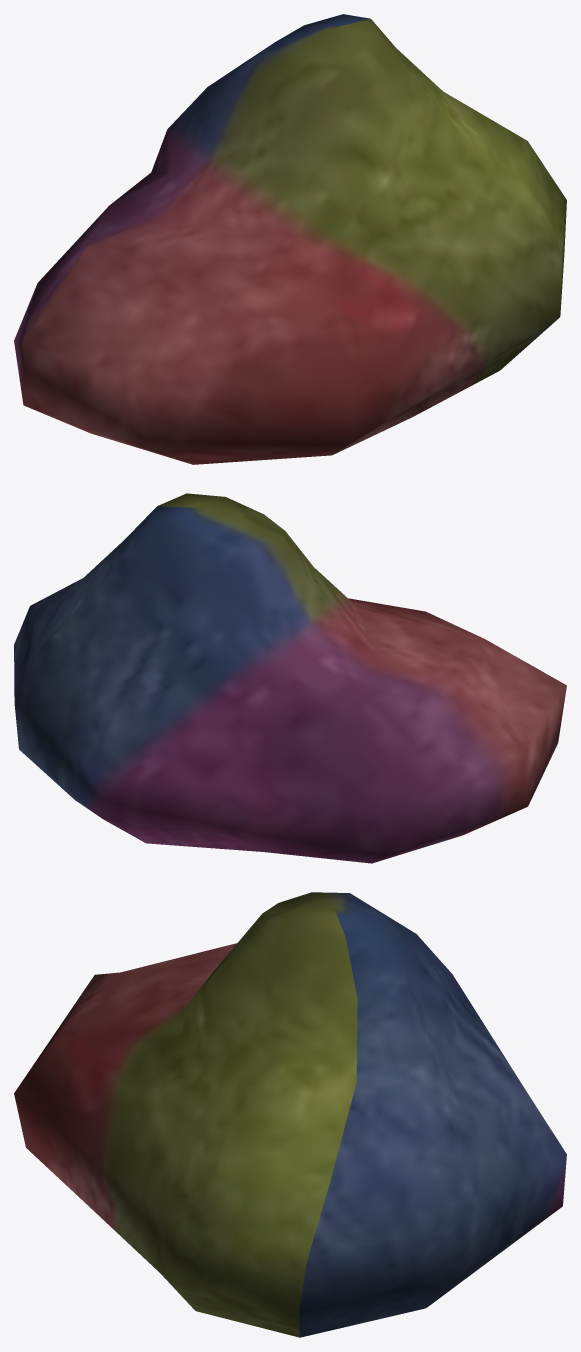
File: Bush01.glb
3 renders of one model, top to bottom at view 1: azimuth 30°, elevation 25°; view 2: azimuth 150°, elevation 25°; view 3: azimuth 270°, elevation 25°, orthographic. The views are drawn at different scales.
Parts seen in each view (by area): view 1: Bush01; view 2: Bush01; view 3: Bush01.
Part boxes in pixels (x1,y1,x2,y2): Bush01: [14, 14, 566, 464]; Bush01: [14, 493, 566, 863]; Bush01: [14, 892, 566, 1337].
Size of the model in its own units: 2.45 by 1.34 by 1.94.
1 material, 1 textured.
